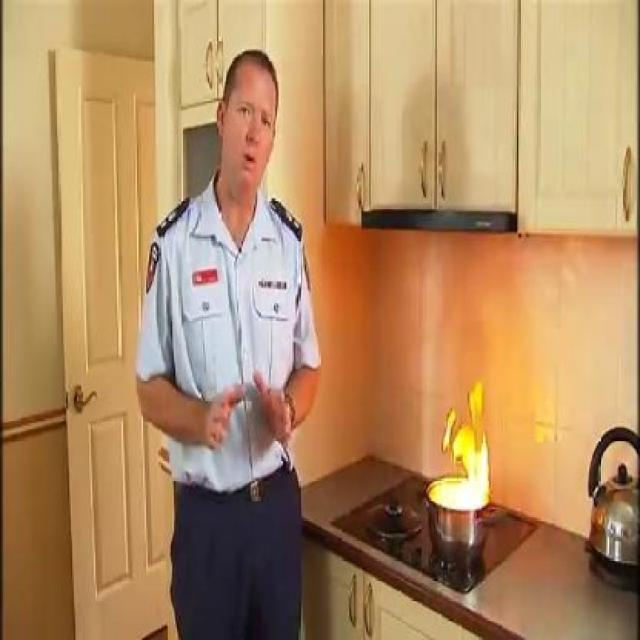fire: (426, 378, 496, 506)
